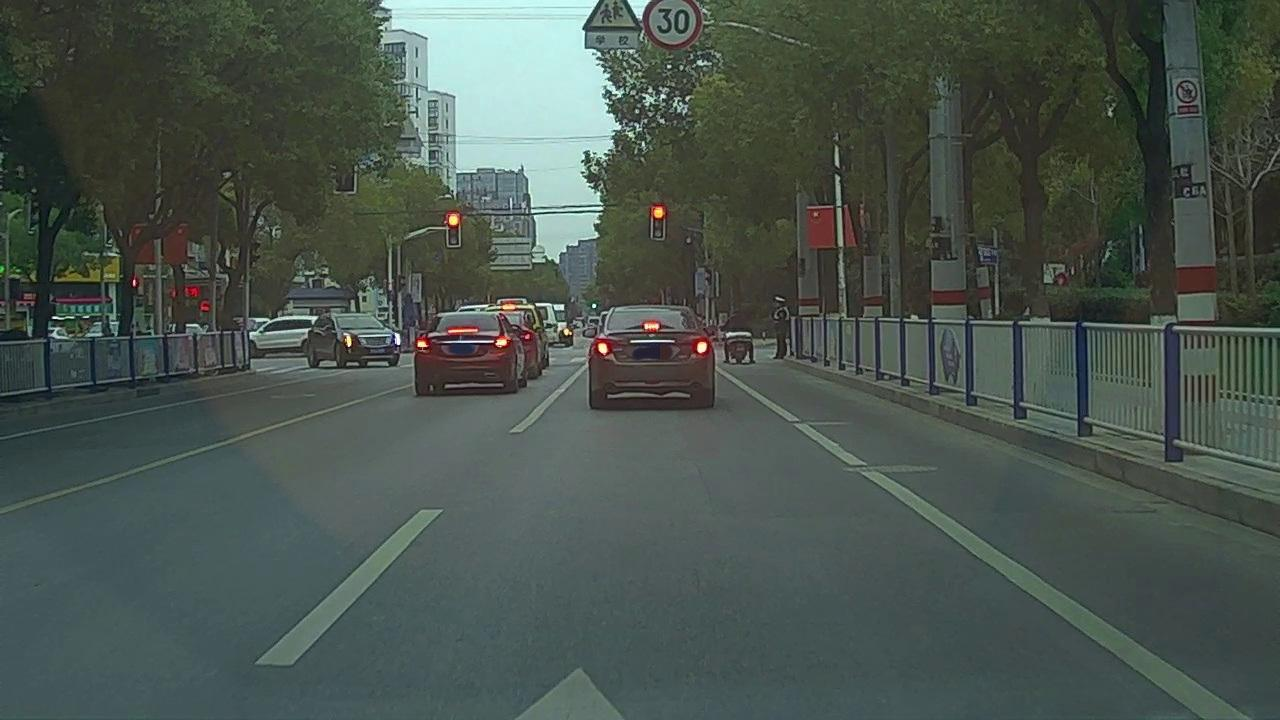traffic_light: (651, 205, 665, 238), (446, 212, 458, 247)
